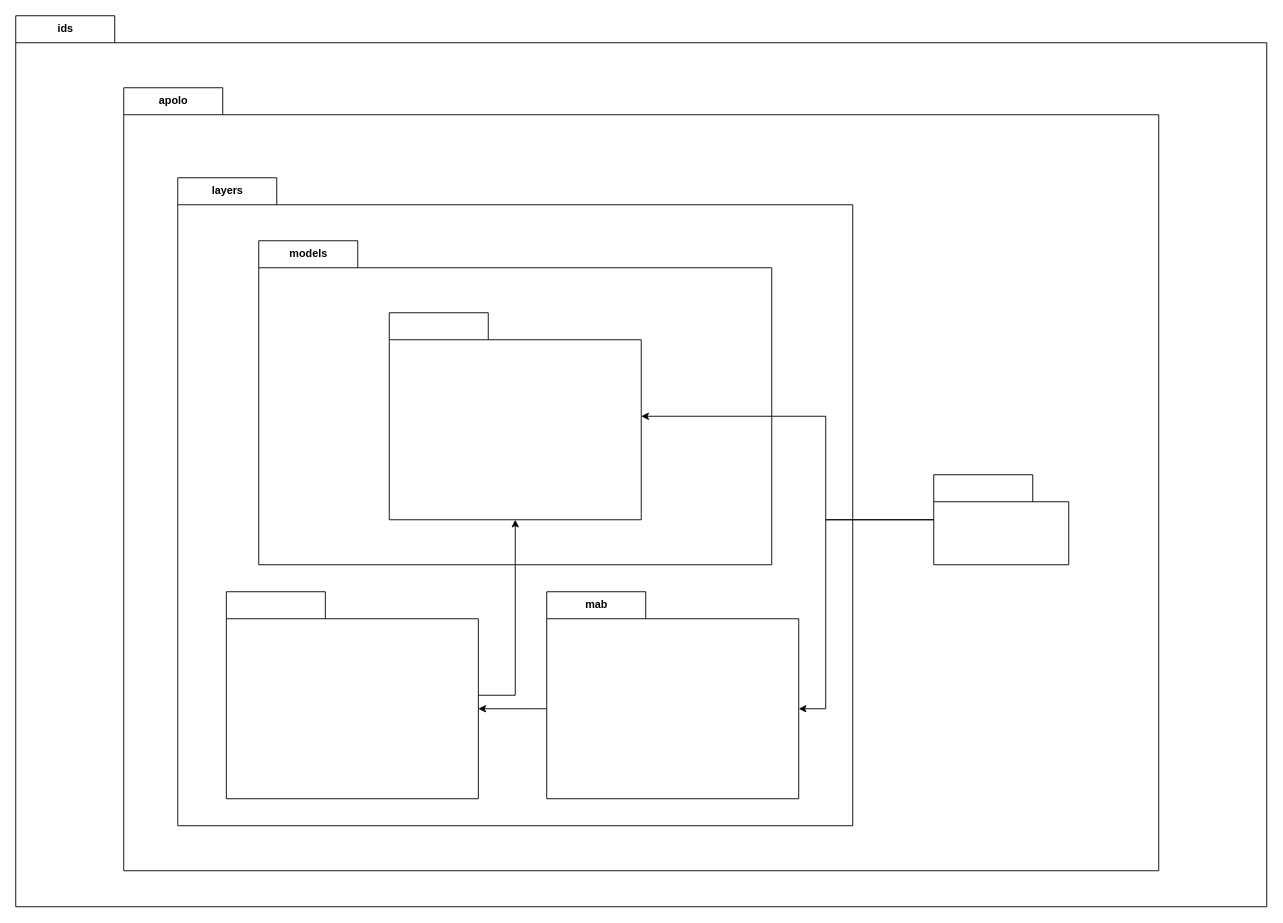
This 1283x923 diagram has some shape labels left out. The centre of each missing label's shape, as x and y in pixels:
"all_models" goes at (x=514, y=416).
"clustering" goes at (x=351, y=695).
"model_train" goes at (x=1001, y=519).
